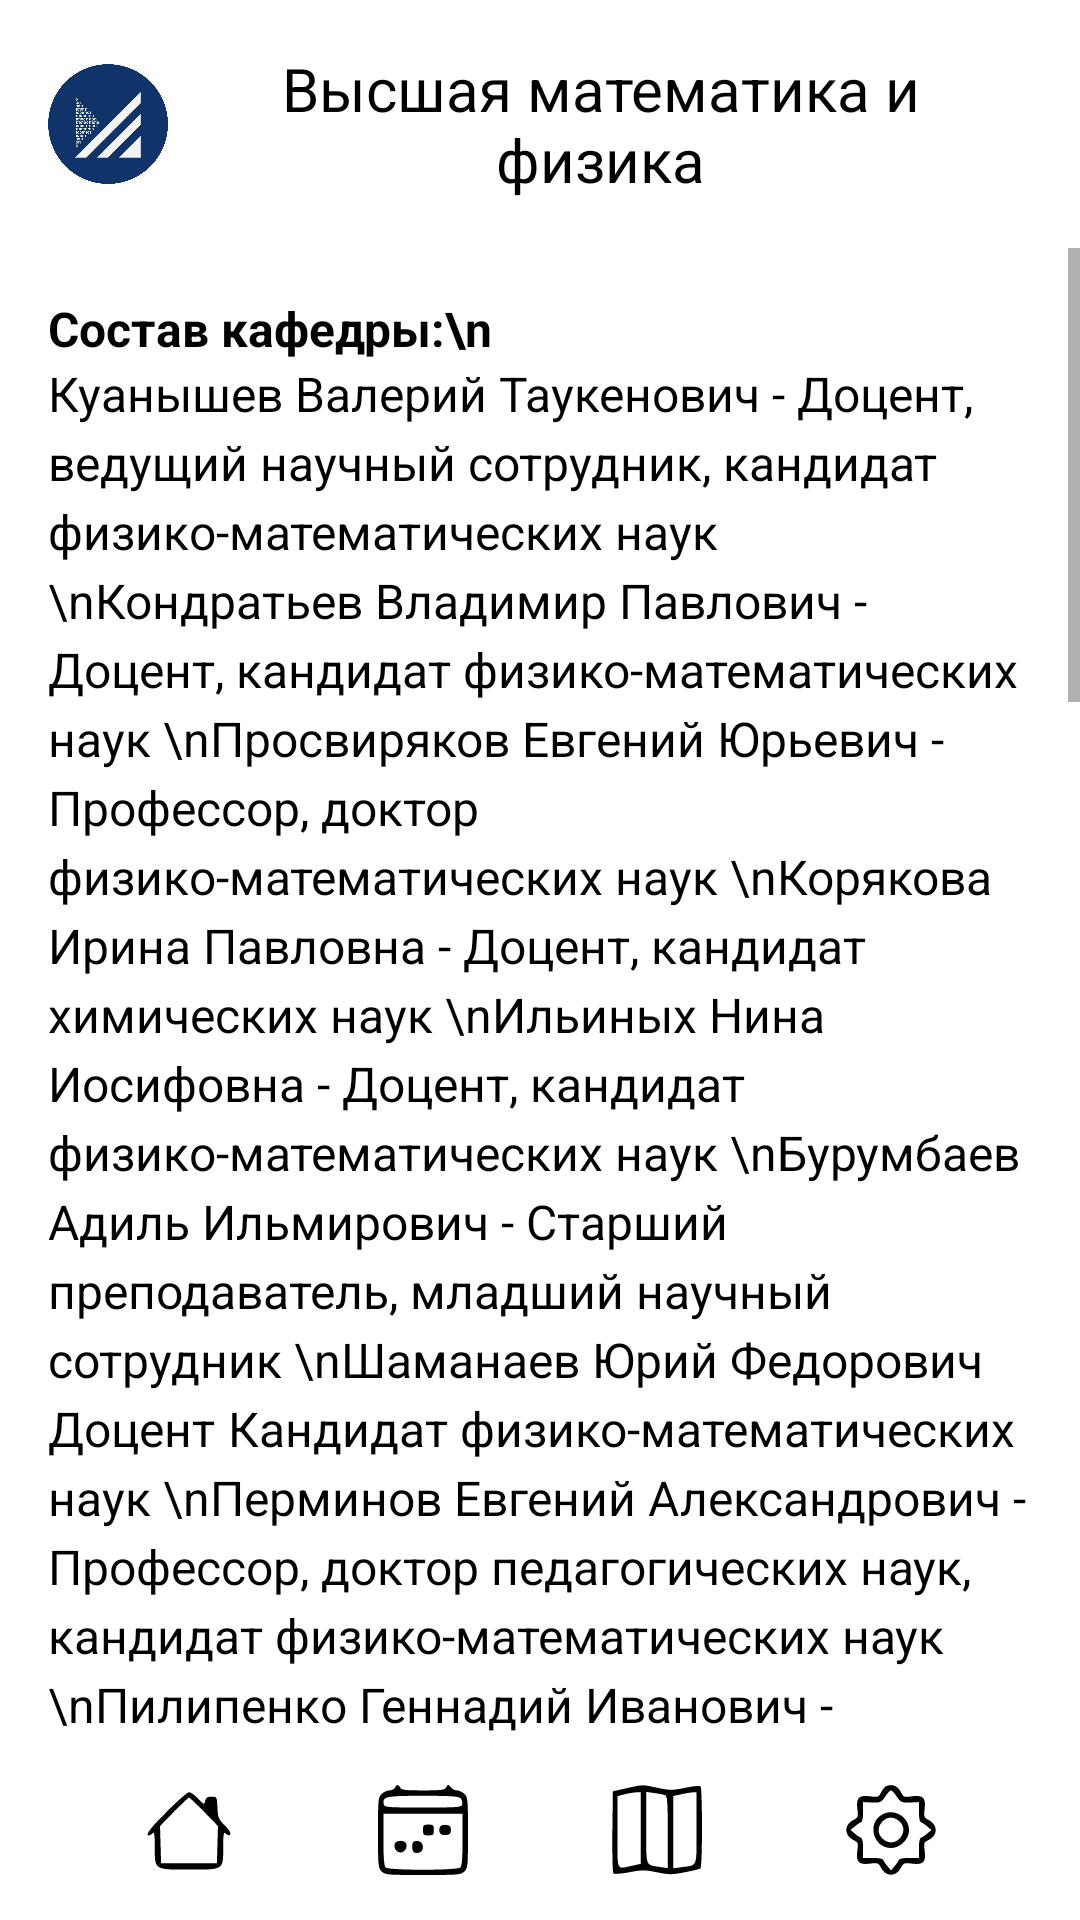

Icons on this 1080px×1920px Android screen, each with the point to tap as (x,y):
calendar: (423,1830)
home: (189,1831)
map: (657,1830)
settings: (891,1830)
